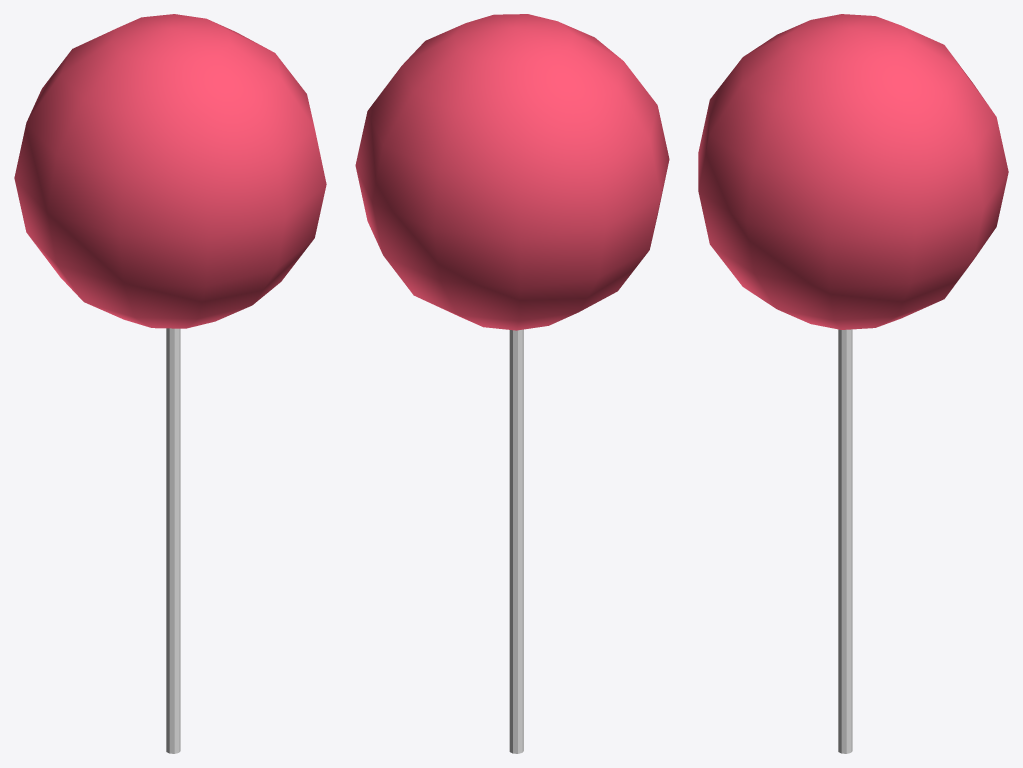
The model's file is Lollipop_Red.fbx.
3 renders of one model, left to right at view 1: azimuth 30°, elevation 25°; view 2: azimuth 150°, elevation 25°; view 3: azimuth 270°, elevation 25°, orthographic.
Parts seen in each view (by area): view 1: Sphere.034, Cylinder.005; view 2: Sphere.034, Cylinder.005; view 3: Sphere.034, Cylinder.005.
Part boxes in pixels (x1,y1,x2,y2): Sphere.034: (14,14,326,328); Cylinder.005: (166,328,180,753); Sphere.034: (355,14,669,330); Cylinder.005: (509,329,523,753); Sphere.034: (698,14,1008,329); Cylinder.005: (838,329,852,753).
Bounding box in the file's own units: 36.78 × 93.52 × 36.41.
